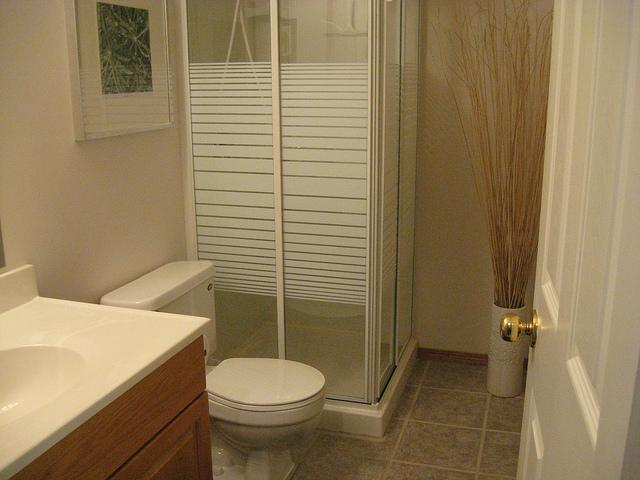Ducha: (175, 3, 420, 439)
Lavamanos: (0, 324, 91, 449)
